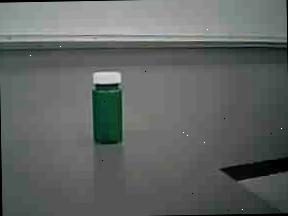Bottle C: (80, 62, 138, 152)
